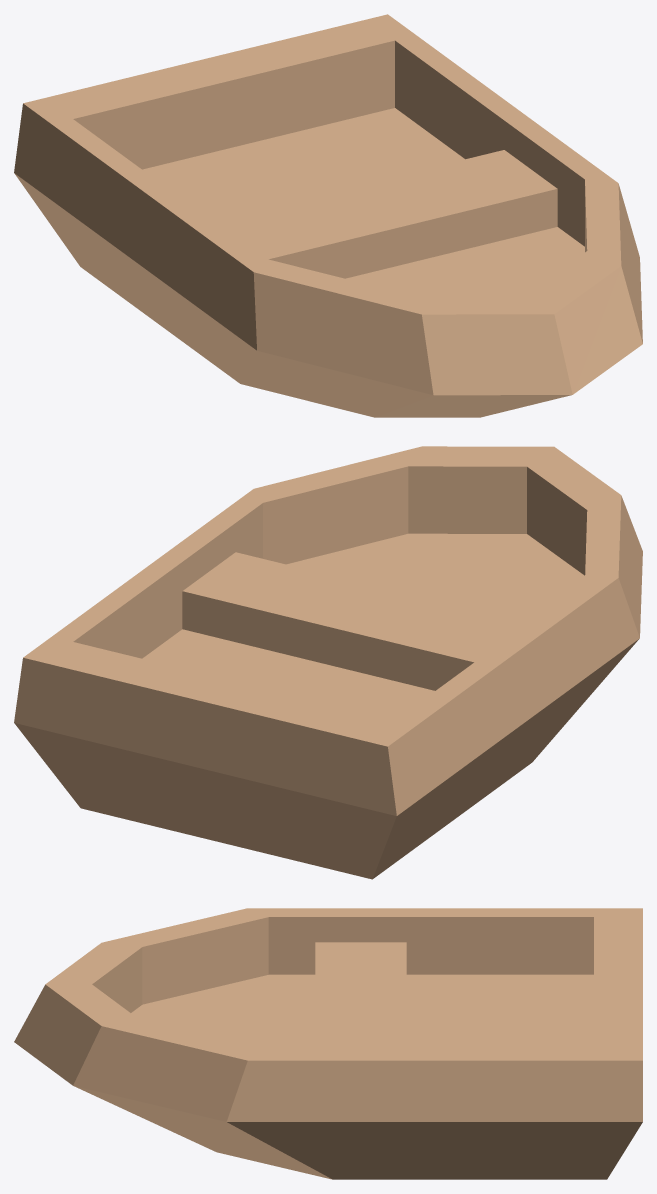
The model's file is boat.glb.
3 renders of one model, top to bottom at view 1: azimuth 30°, elevation 25°; view 2: azimuth 150°, elevation 25°; view 3: azimuth 270°, elevation 25°, orthographic. The views are drawn at different scales.
Parts seen in each view (by area): view 1: boat_small_8angles; view 2: boat_small_8angles; view 3: boat_small_8angles.
Boxes of the visible parts, <box> form: boat_small_8angles: <box>14,14,642,417</box>; boat_small_8angles: <box>14,446,642,879</box>; boat_small_8angles: <box>14,908,642,1179</box>.
Size of the model in its own units: 0.8923 by 0.3498 by 1.48.
